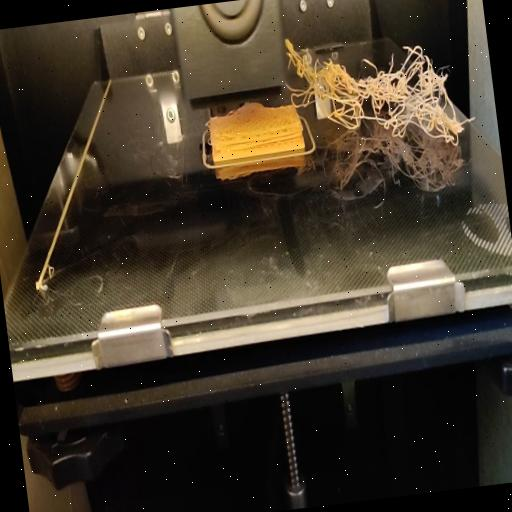spaghetti: (285, 13, 476, 163)
